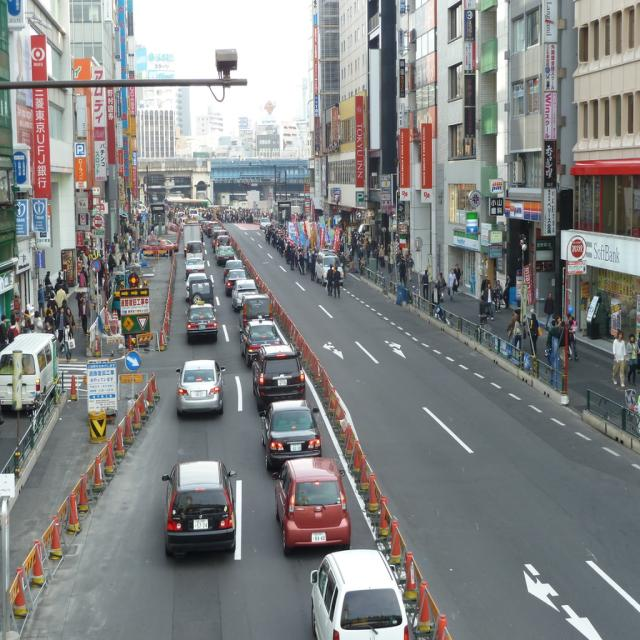car: (158, 460, 234, 553), (173, 359, 226, 412)
